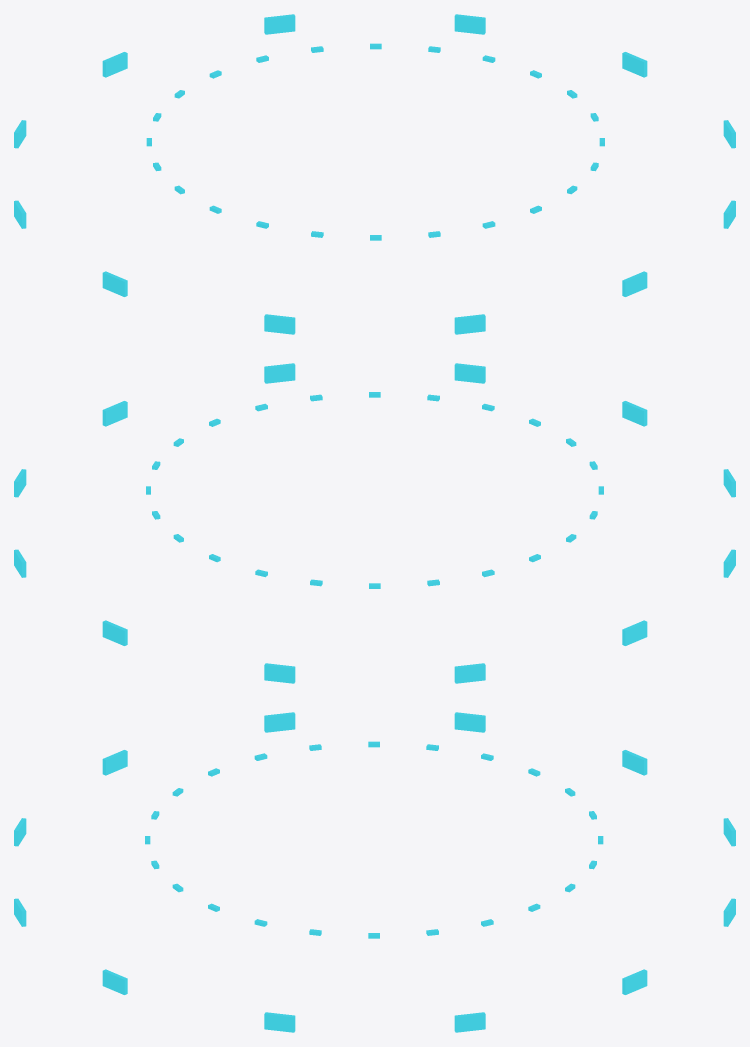
Rendered from plarform_light_r_02.glb.
3 renders of one model, top to bottom at view 1: azimuth 30°, elevation 25°; view 2: azimuth 150°, elevation 25°; view 3: azimuth 270°, elevation 25°, orthographic.
Visible parts, largest first — view 1: Plat_SP_m9.001; view 2: Plat_SP_m9.001; view 3: Plat_SP_m9.001.
Part boxes in pixels (x1=…): Plat_SP_m9.001: x1=14, y1=14, x2=735, y2=334; Plat_SP_m9.001: x1=14, y1=363, x2=735, y2=683; Plat_SP_m9.001: x1=14, y1=712, x2=735, y2=1032.
Size of the model in its own units: 4.3 by 0.2761 by 4.3.
